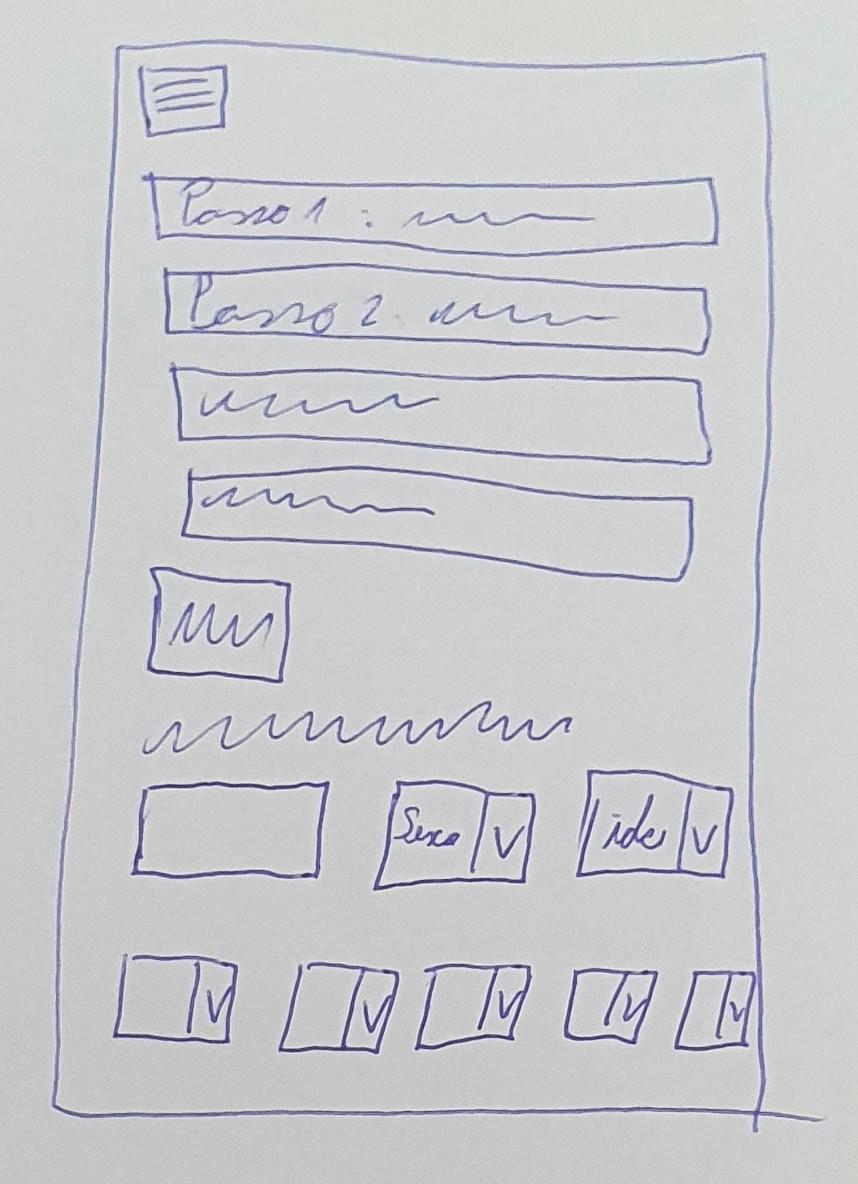Button: (164, 263, 712, 356), (146, 172, 719, 257), (146, 566, 291, 684), (137, 63, 231, 137)
Label: (142, 701, 573, 755)
ListPicker: (373, 780, 537, 891), (575, 770, 734, 880), (112, 952, 239, 1044), (278, 962, 399, 1055), (413, 962, 532, 1050), (563, 969, 657, 1045), (673, 971, 757, 1052)
TextBox: (181, 465, 693, 583), (171, 363, 712, 466), (132, 781, 329, 881)
